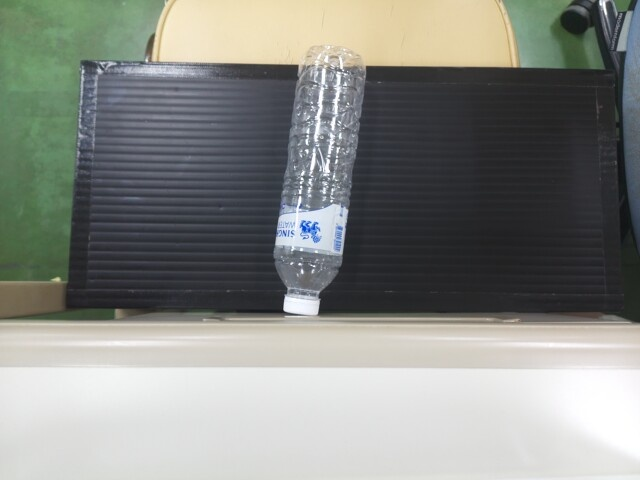plastic_bottle: (278, 40, 364, 302)
